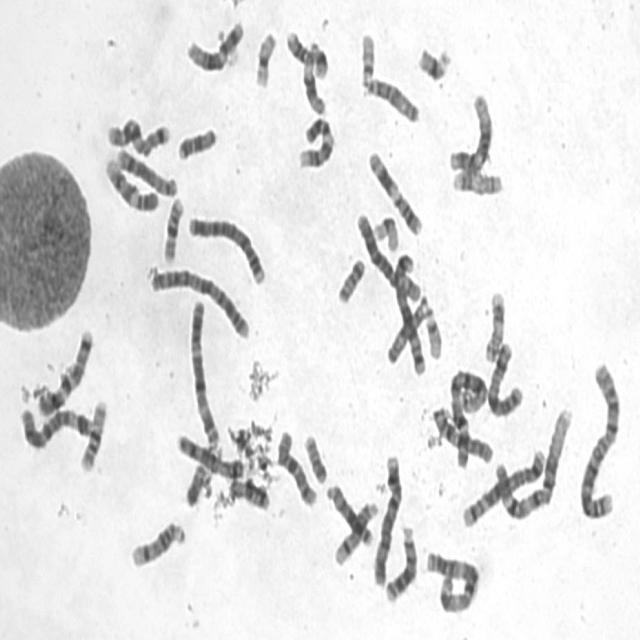A1: (456, 401, 576, 529), (491, 401, 575, 521)
A2: (144, 262, 250, 341), (575, 354, 623, 522)
A3: (186, 294, 220, 450), (422, 544, 481, 615)
B4: (184, 210, 267, 288), (368, 449, 404, 588)
B5: (458, 442, 548, 530), (390, 247, 428, 378)
C10: (428, 401, 496, 465), (273, 424, 318, 509)
C11: (364, 144, 424, 238), (282, 25, 328, 116)
C12: (445, 87, 495, 177), (183, 14, 245, 73)
C6: (352, 207, 423, 304), (15, 402, 94, 451)
C7: (33, 323, 94, 418), (102, 112, 172, 158)
C8: (174, 429, 245, 480), (112, 144, 178, 198)
C9: (100, 151, 160, 214), (294, 111, 336, 170)
D13: (322, 478, 375, 548), (381, 520, 418, 604)
D14: (330, 496, 379, 568), (127, 515, 187, 570)
D15: (383, 291, 431, 366), (360, 71, 421, 125)
E16: (76, 393, 109, 473), (159, 191, 185, 265)
E17: (481, 285, 506, 364), (448, 164, 504, 197)
E18: (224, 472, 270, 513), (174, 121, 218, 162)
F19: (250, 26, 278, 89), (370, 210, 400, 253)
F20: (334, 252, 367, 306), (300, 429, 328, 486)
G21: (414, 40, 453, 84), (306, 34, 329, 80)
G22: (422, 301, 444, 361), (356, 26, 377, 88)
X: (174, 429, 245, 480), (484, 336, 525, 419)
Y: (181, 458, 210, 508)
